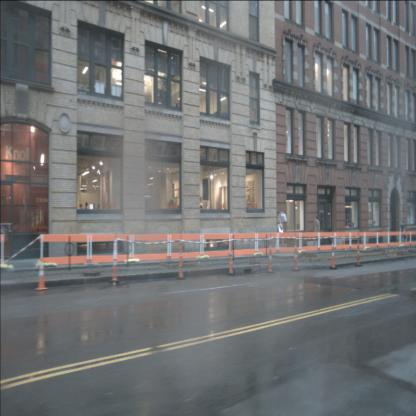human-pedestrian-adult: (274, 211, 288, 250), (312, 216, 320, 251), (400, 220, 406, 246)
movable_object-trafficcone: (110, 234, 120, 285), (176, 235, 187, 280), (36, 257, 48, 290), (227, 233, 236, 276), (329, 233, 338, 270), (266, 233, 274, 274), (354, 231, 362, 267), (293, 234, 300, 272), (342, 234, 346, 250)
